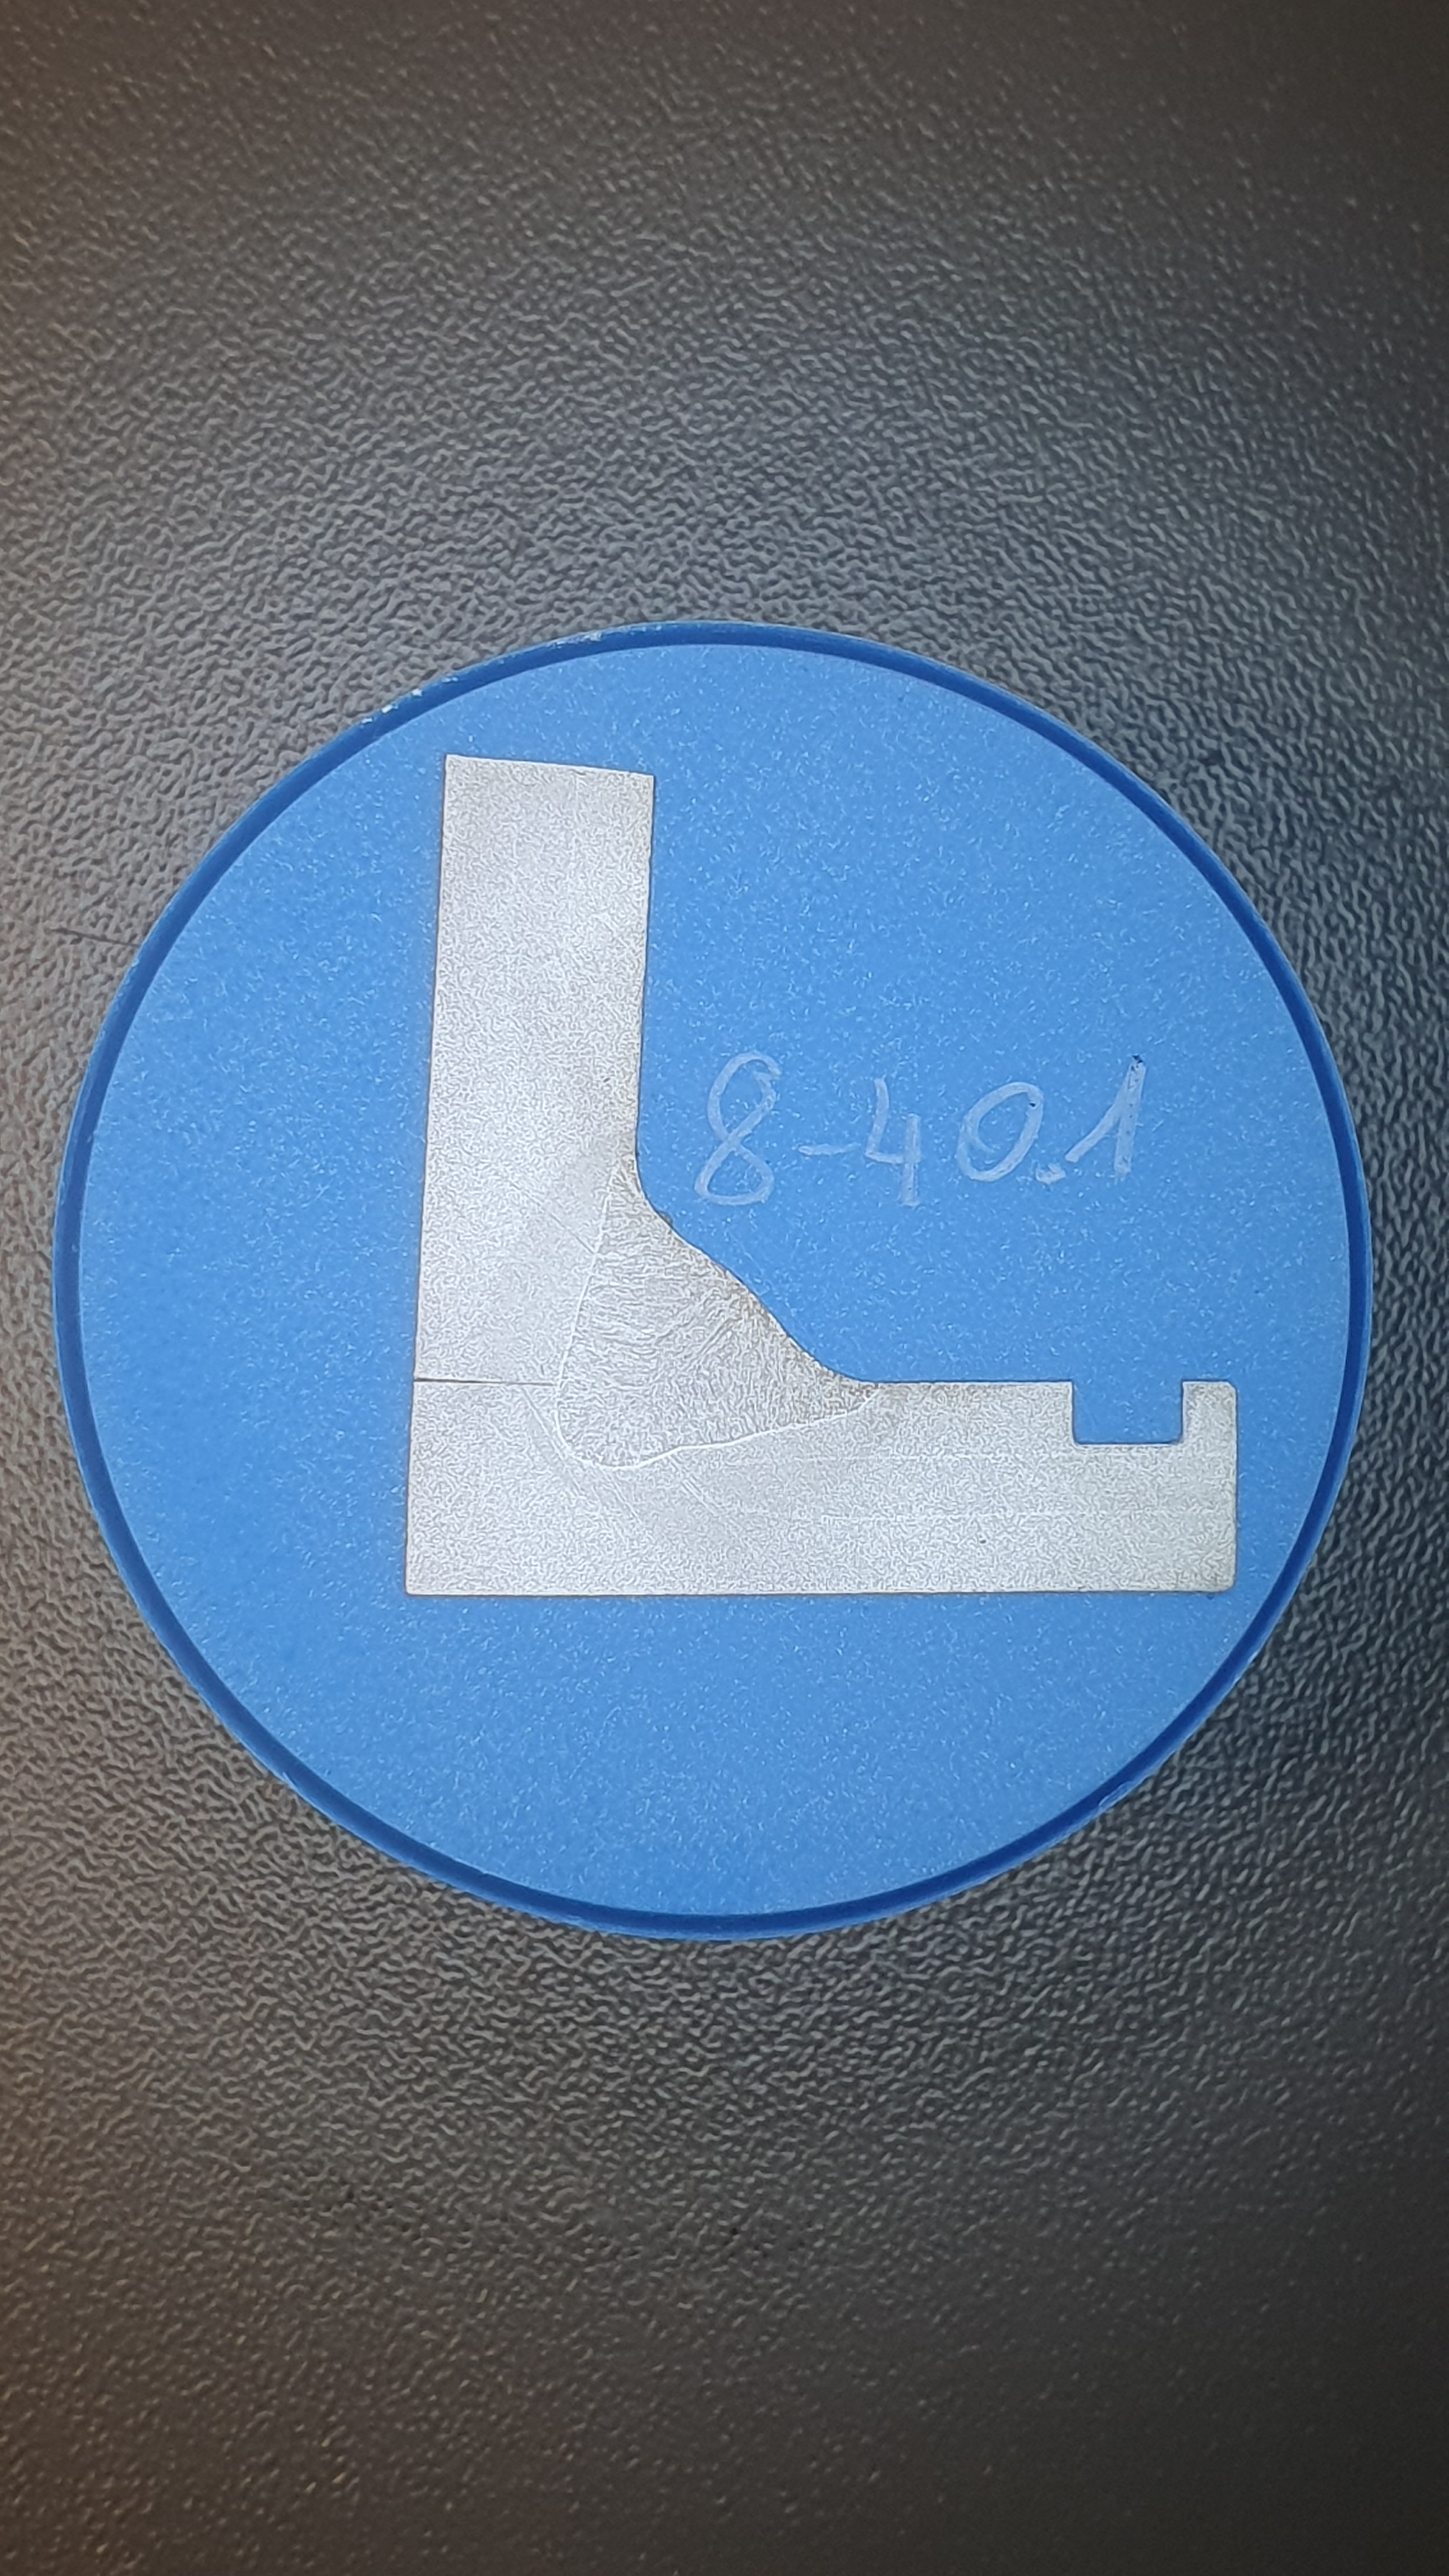Fusion: (557, 1130, 879, 1467)
Hintergrund: (79, 645, 1348, 1915)
Metall: (404, 753, 1238, 1596)
Nebenbereich: (493, 1110, 912, 1510)
